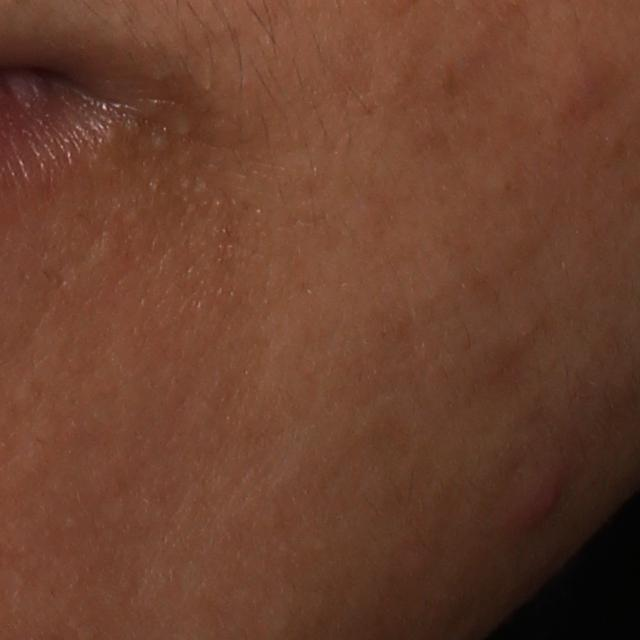papule: (505, 469, 573, 541)
